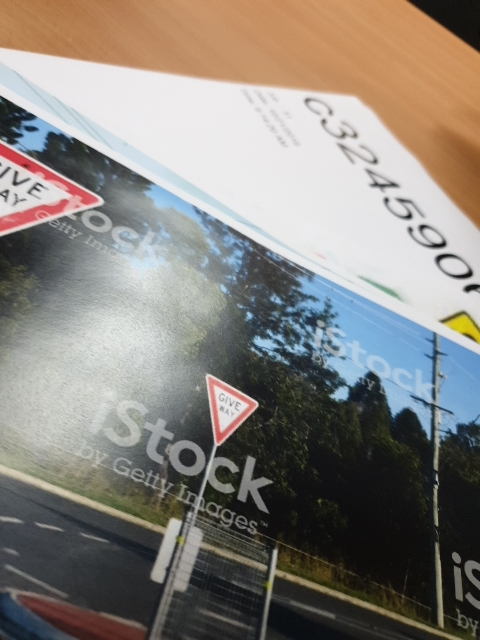giveway: (3, 133, 131, 251), (205, 371, 290, 450)
